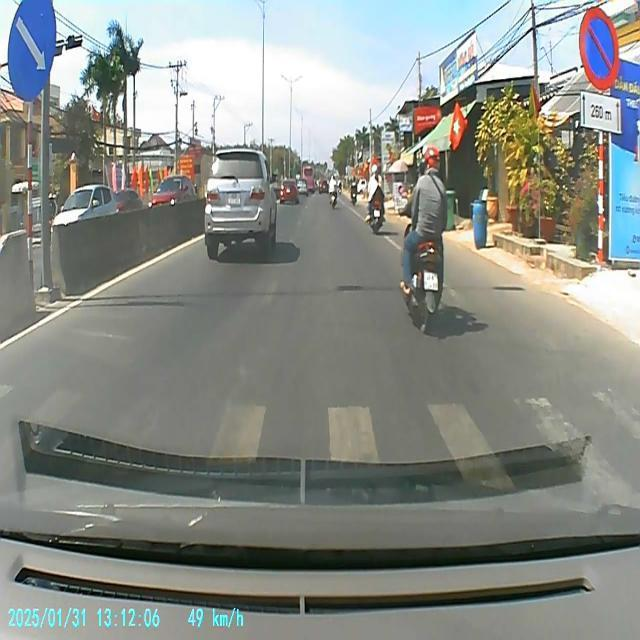131a-cam-do-xe: (578, 2, 620, 90)
302a-huong-phai-di-vong-chuong-ngai-vat-1: (8, 0, 56, 100)
